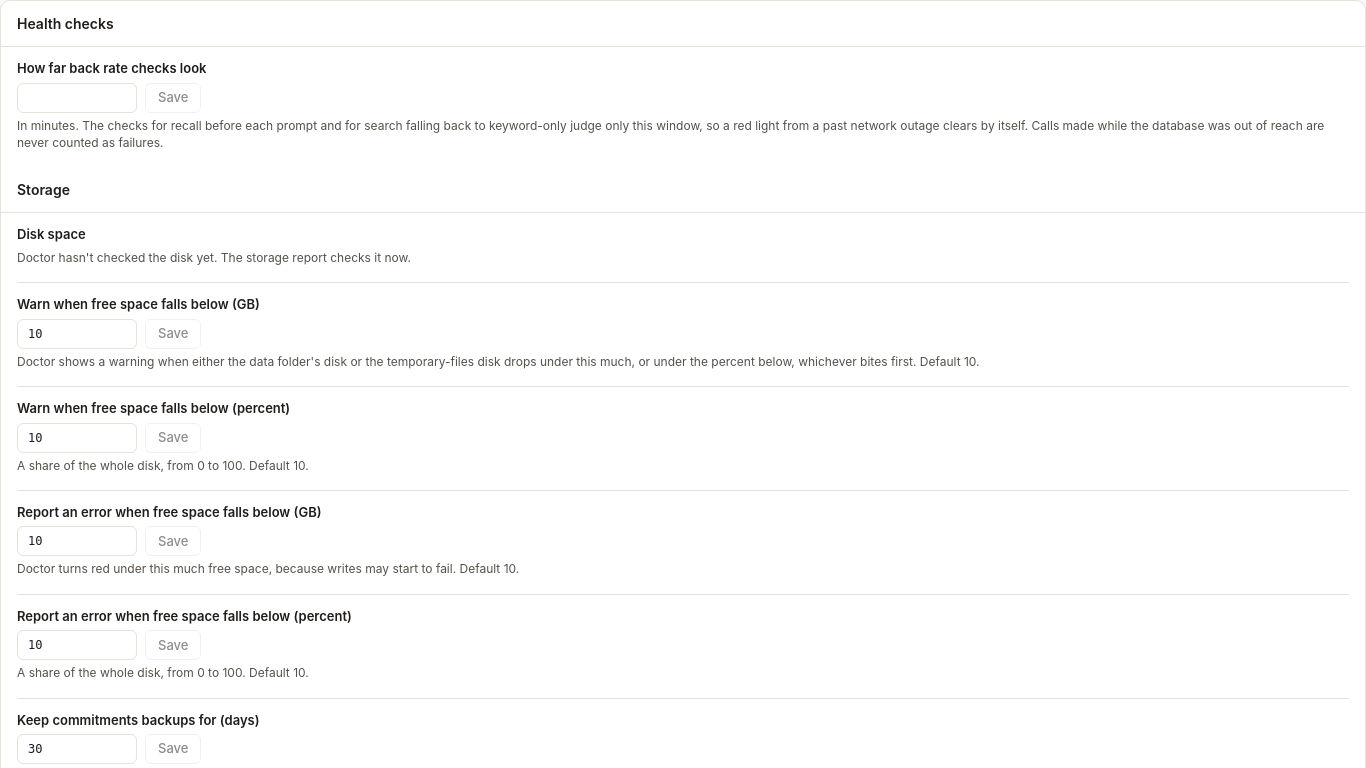
Test: Storage settings › saves and resets one through the config commands
This screenshot has width=1366, height=768.
Replace the text in the field labelled "Keep commitments backups for (days)" with "14" at (77, 749), box [17, 734, 137, 764]
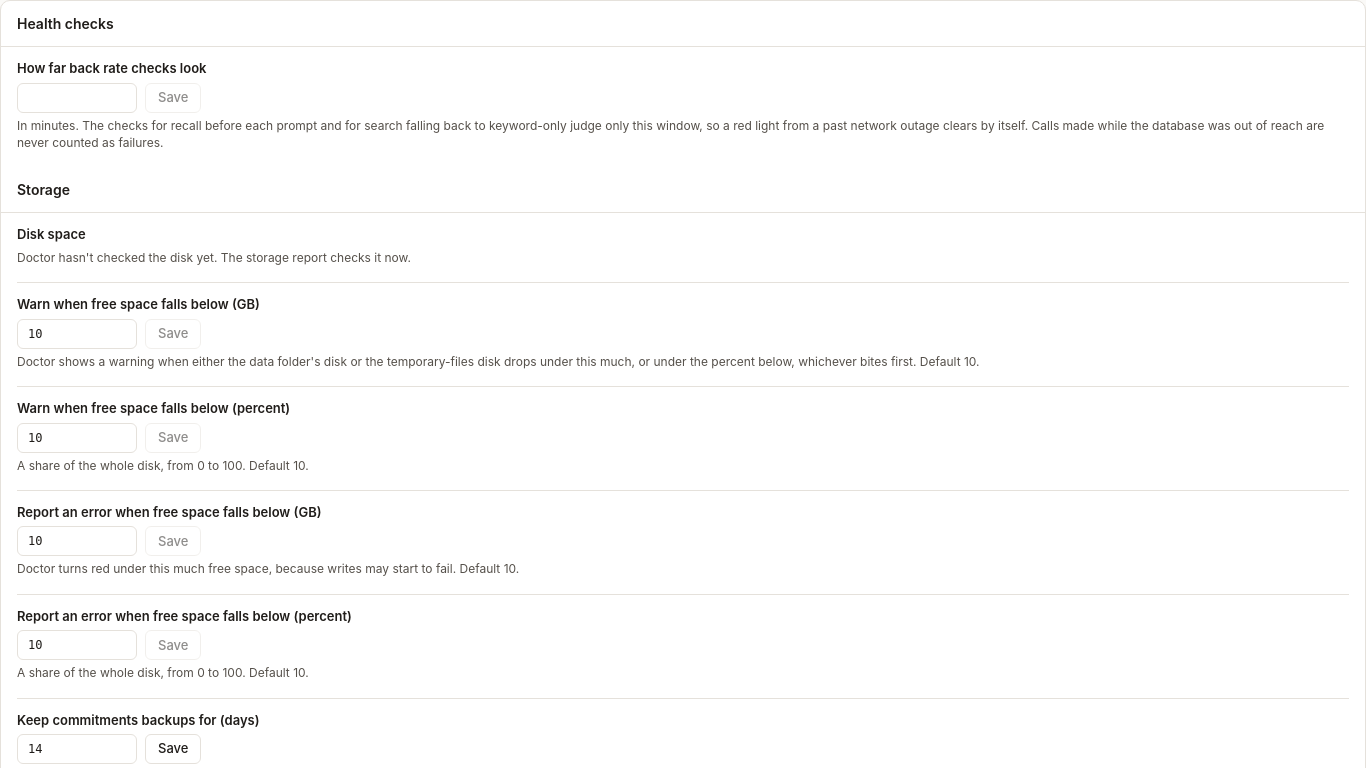
Click the button "Save" below "Keep commitments backups for (days)".
click(173, 749)  # box [145, 734, 201, 764]
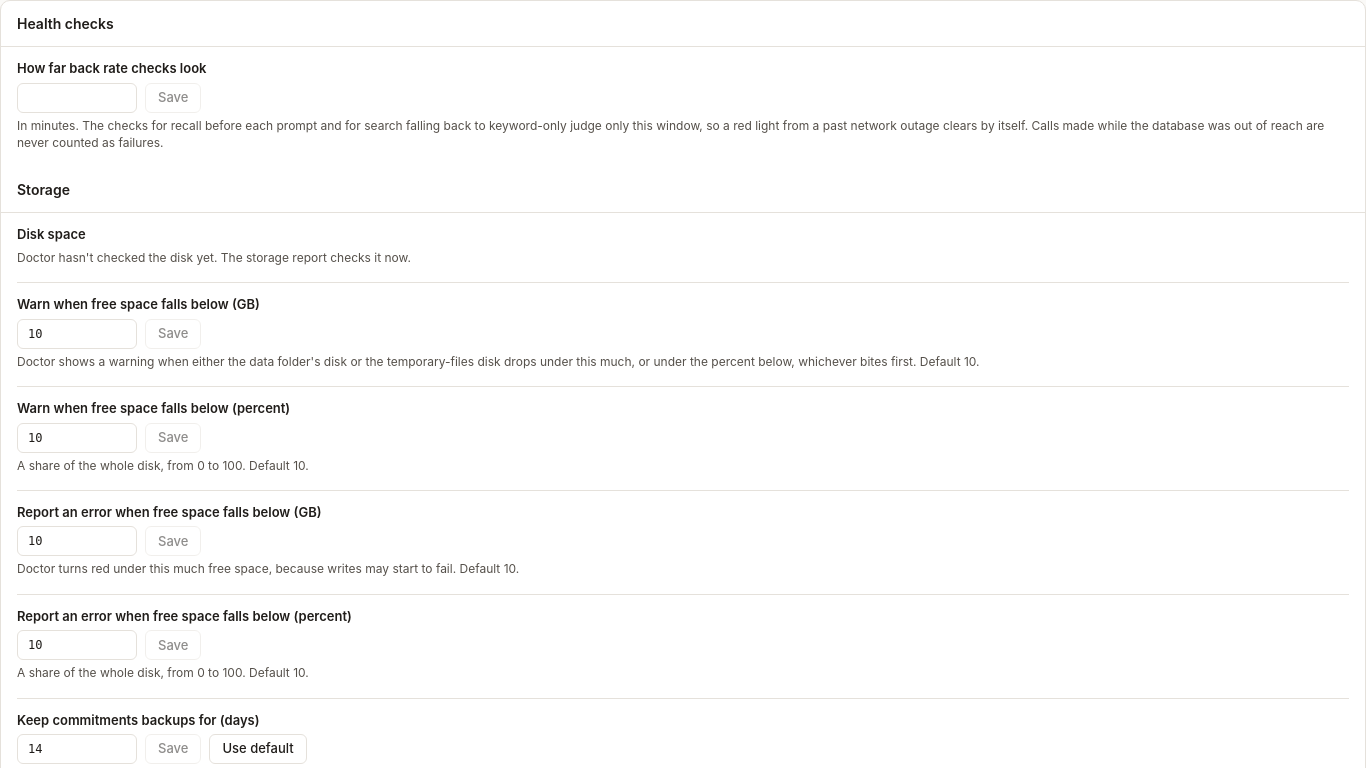
The field already shows the typed value, so wait for the write itself.
Click the button "Use default".
click(258, 749)  # box [209, 734, 307, 764]
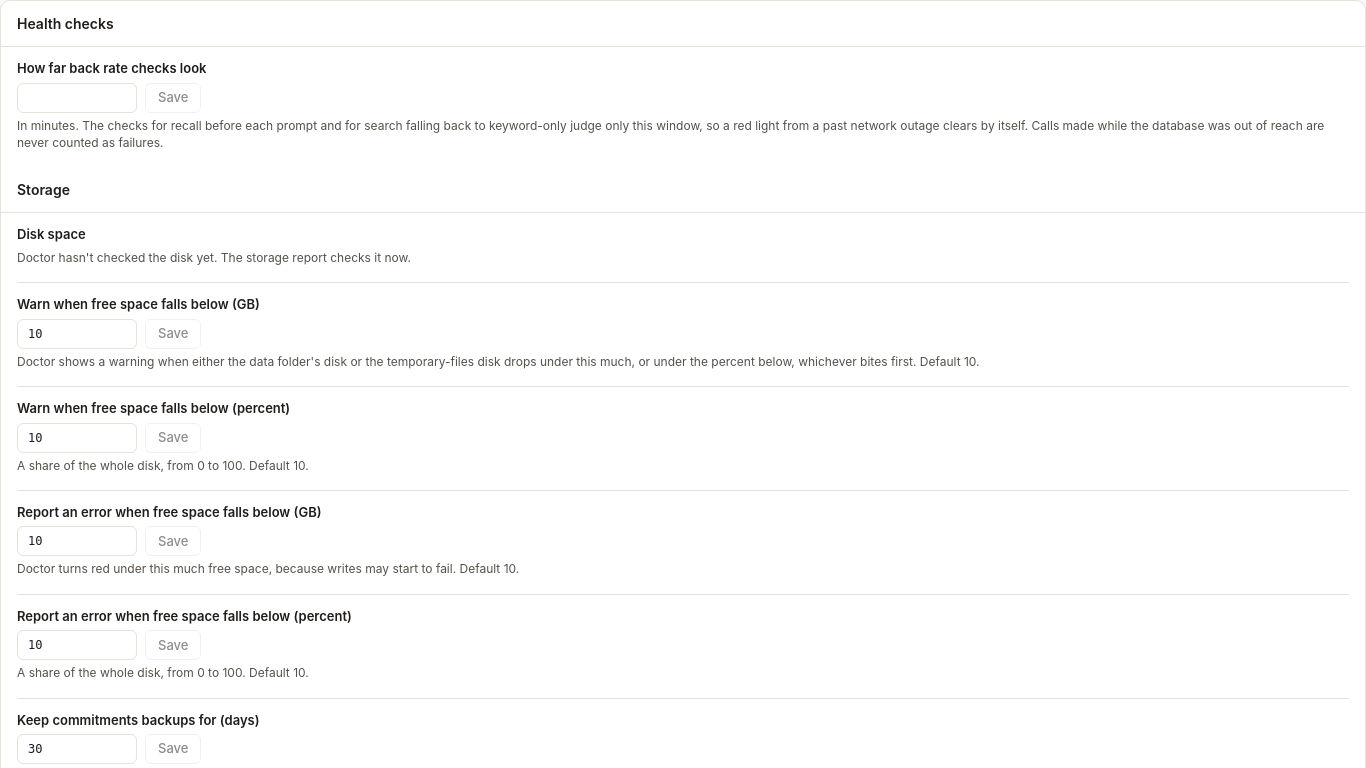
Expected: the field labelled "Keep commitments backups for (days)" holds "30", [17, 734, 137, 764]
